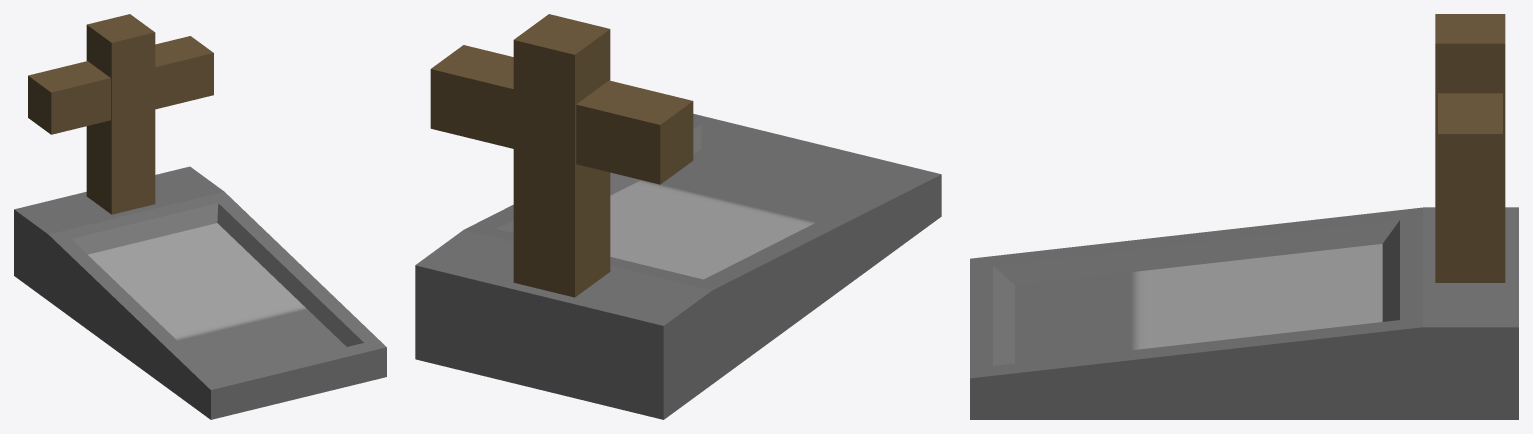
The model's file is Cruz_Lap.fbx.
3 renders of one model, left to right at view 1: azimuth 30°, elevation 25°; view 2: azimuth 150°, elevation 25°; view 3: azimuth 270°, elevation 25°, orthographic. The views are drawn at different scales.
Visible parts, largest first — view 1: Cruz&Lap; view 2: Cruz&Lap; view 3: Cruz&Lap.
Boxes of the visible parts, left/top/right/bottom form: Cruz&Lap: left=14, top=14, right=386, bottom=419; Cruz&Lap: left=415, top=14, right=941, bottom=419; Cruz&Lap: left=970, top=14, right=1518, bottom=419.
Size of the model in its own units: 79.56 by 103 by 154.
